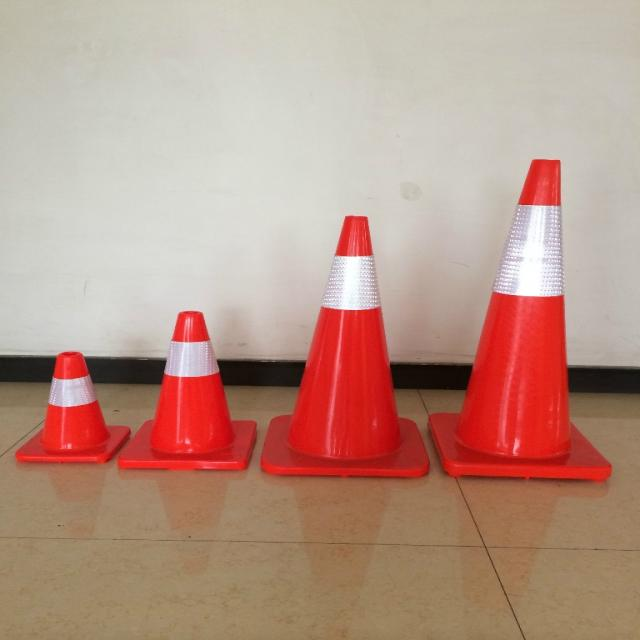reflective_cone: (424, 158, 616, 483), (260, 215, 432, 475), (114, 309, 257, 472), (14, 350, 128, 462)
